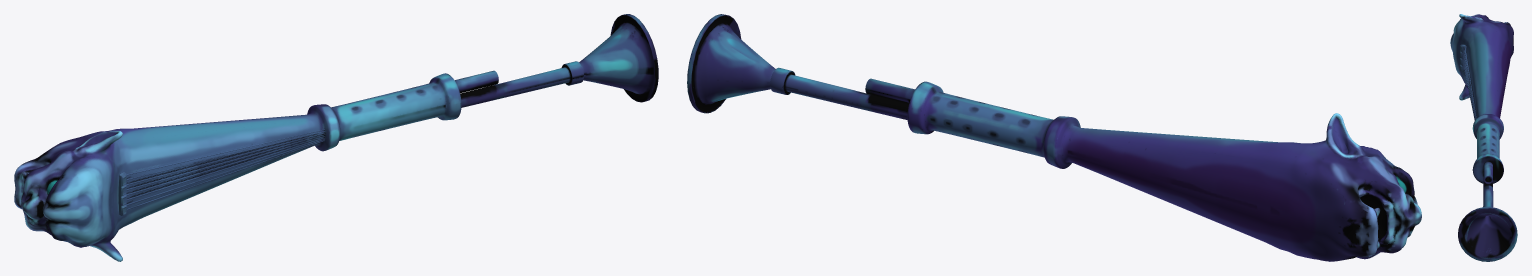
File: Dagnas Weapon Textura.fbx
The picture shows the model from 3 angles, left to right: view 1: azimuth 30°, elevation 25°; view 2: azimuth 150°, elevation 25°; view 3: azimuth 270°, elevation 25°; orthographic projection. The views are drawn at different scales.
Visible parts, largest first — view 1: weapon; view 2: weapon; view 3: weapon.
Part boxes in pixels (<box>): weapon: <box>14,14,658,261</box>; weapon: <box>687,14,1421,261</box>; weapon: <box>1450,14,1517,261</box>.
Bounding box in the file's own units: 11694 × 2335 × 1650.
Materials: 1 (1 with a texture image).
